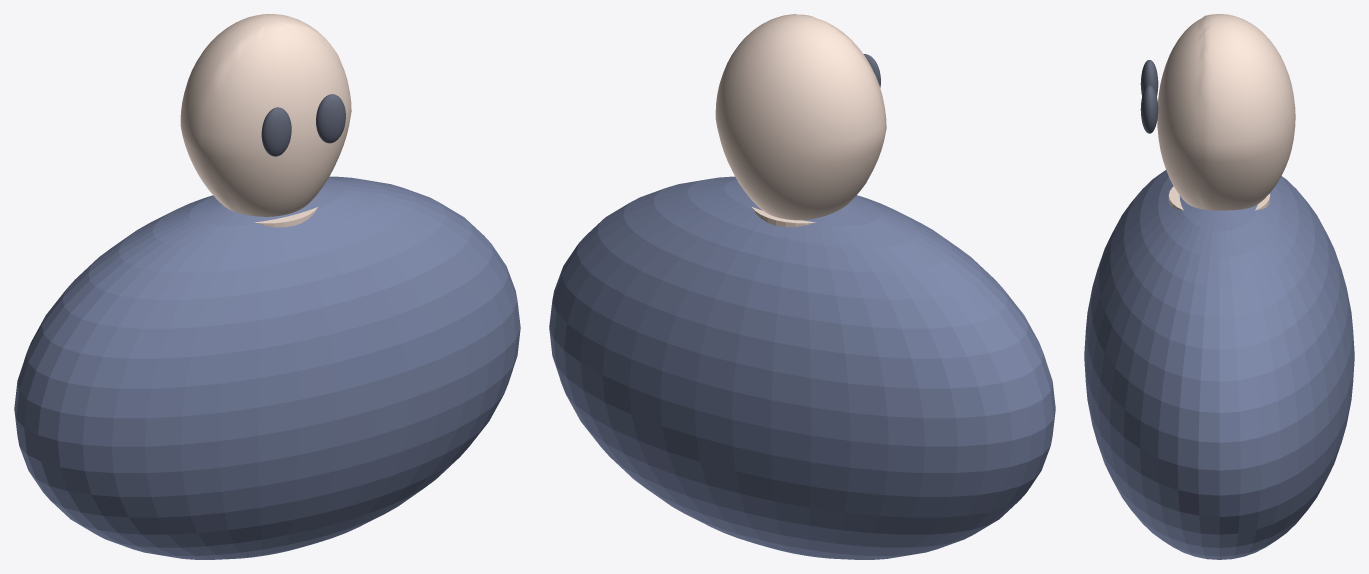
Rendered from reference-character.glb.
3 renders of one model, left to right at view 1: azimuth 30°, elevation 25°; view 2: azimuth 150°, elevation 25°; view 3: azimuth 270°, elevation 25°, orthographic. The views are drawn at different scales.
Parts seen in each view (by area): view 1: TS_ReferenceBust, TS_ReferenceHead, TS_ReferenceEye_L, TS_ReferenceEye_R; view 2: TS_ReferenceBust, TS_ReferenceHead; view 3: TS_ReferenceBust, TS_ReferenceHead, TS_ReferenceEye_R, TS_ReferenceEye_L, TS_ReferenceNeck.
Boxes of the visible parts, x1,y1,x2,y2 form: TS_ReferenceBust: (14,176,520,559); TS_ReferenceHead: (180,14,351,216); TS_ReferenceEye_L: (261,107,291,156); TS_ReferenceEye_R: (316,94,345,143); TS_ReferenceBust: (549,176,1055,559); TS_ReferenceHead: (715,14,886,220); TS_ReferenceBust: (1084,170,1354,559); TS_ReferenceHead: (1157,14,1295,210); TS_ReferenceEye_R: (1140,85,1158,133); TS_ReferenceEye_L: (1140,60,1158,96); TS_ReferenceNeck: (1168,186,1270,210).
Size of what is drawn, in the model's own units: 0.64 by 0.658 by 0.32.
